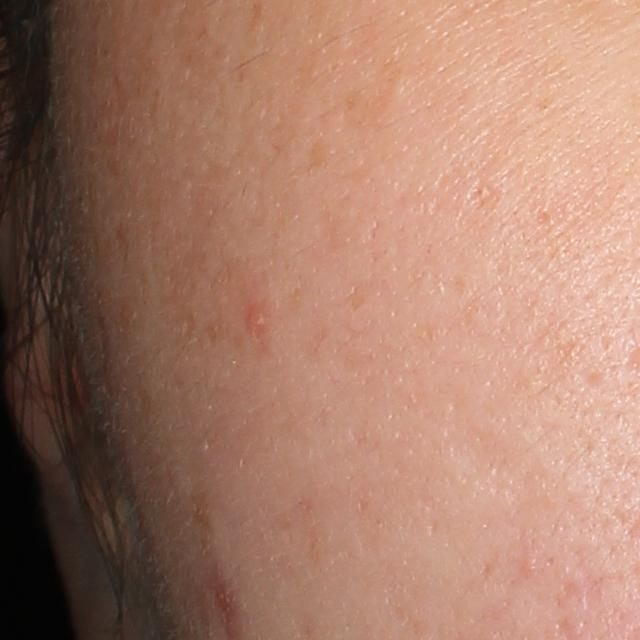atrophic_scar: (451, 425, 539, 508)
comedo: (380, 72, 408, 105)
papule: (243, 299, 271, 342)
